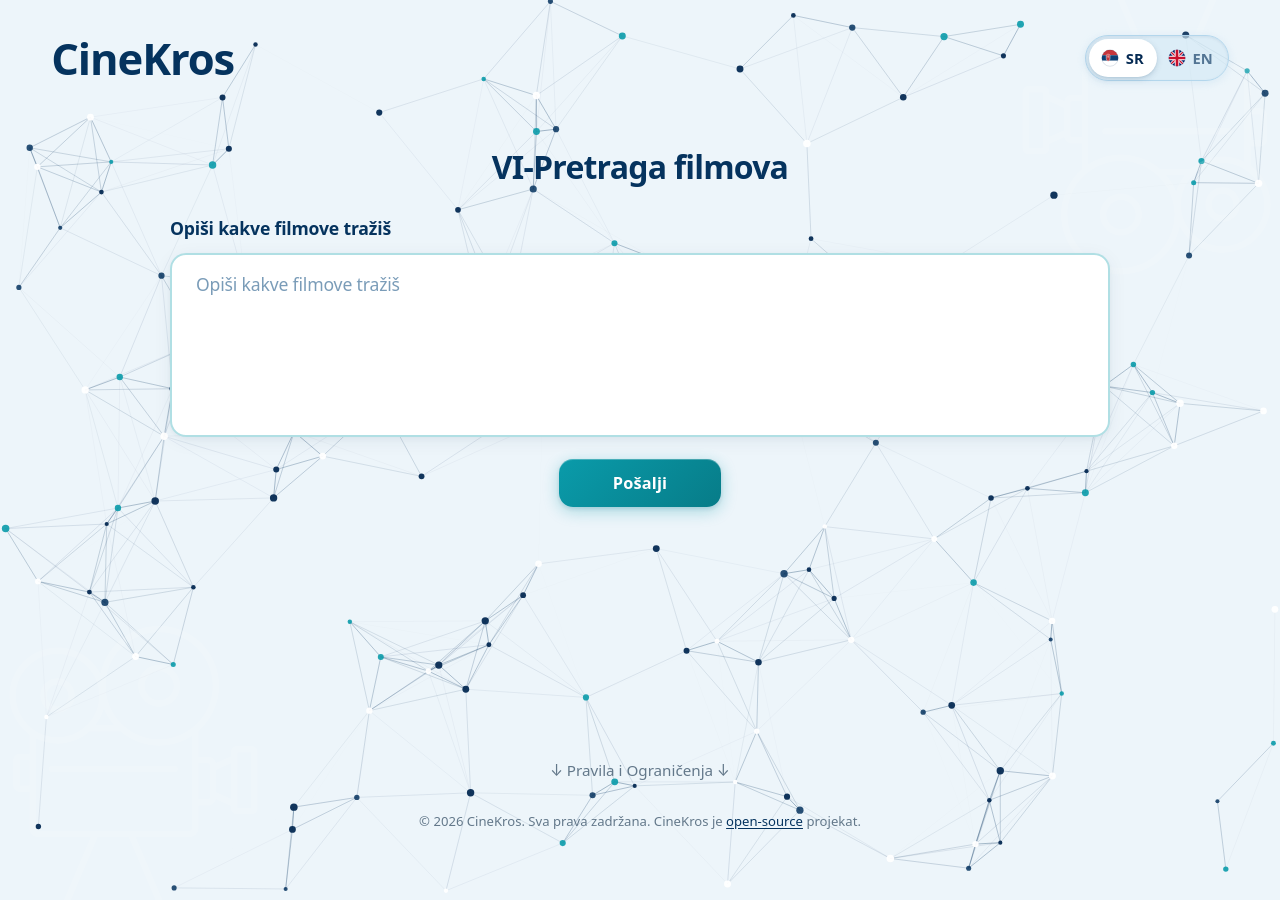
Test: v2 recommendation frontend › accepts business alert 400/INVALID_REQUEST only with its contract status and copy
The image size is (1280, 900).
Type "film" into the text box at (640, 345), box x1=170 y1=253 x2=1110 y2=437
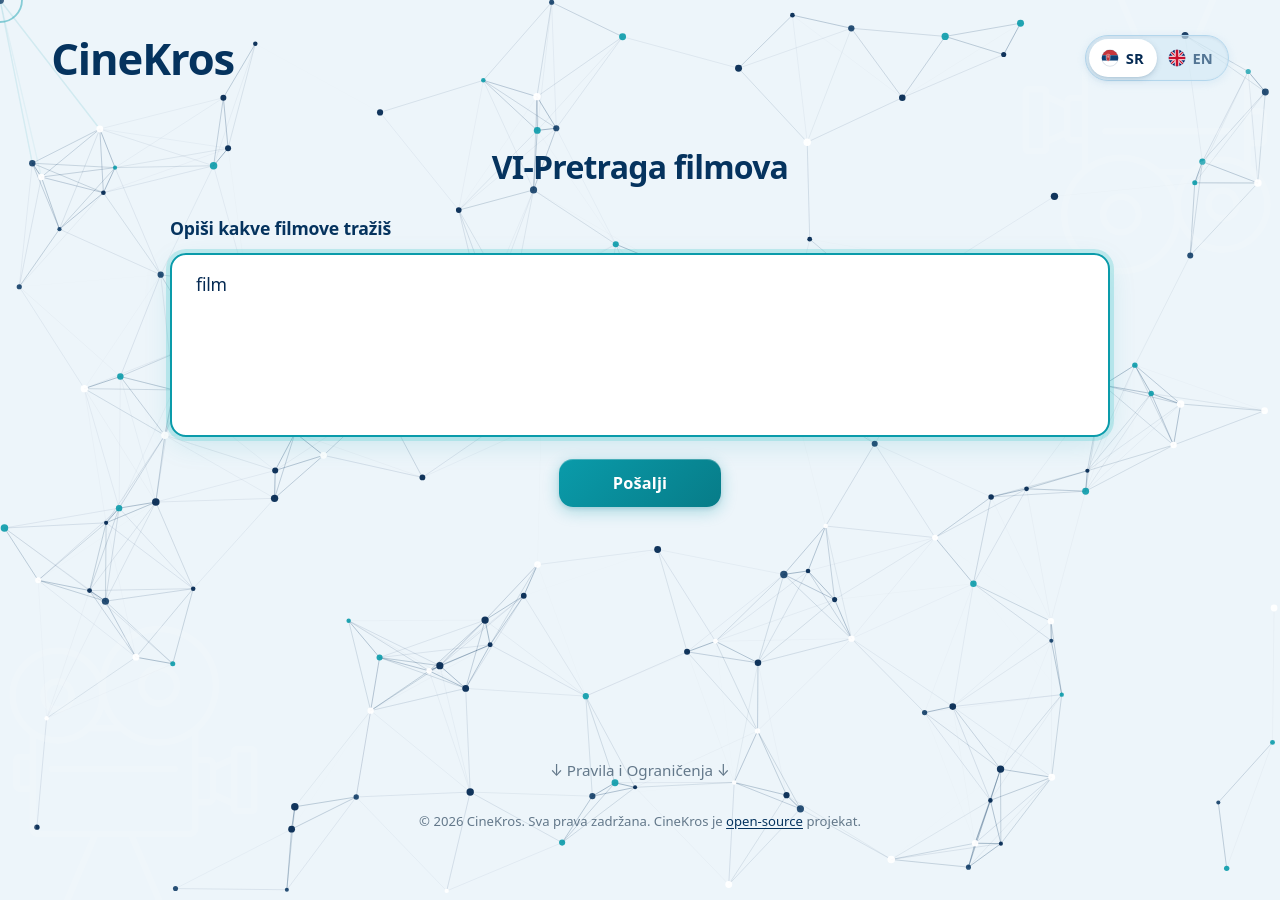
Click the button "Pošalji" at (640, 483), box x1=559 y1=459 x2=721 y2=507
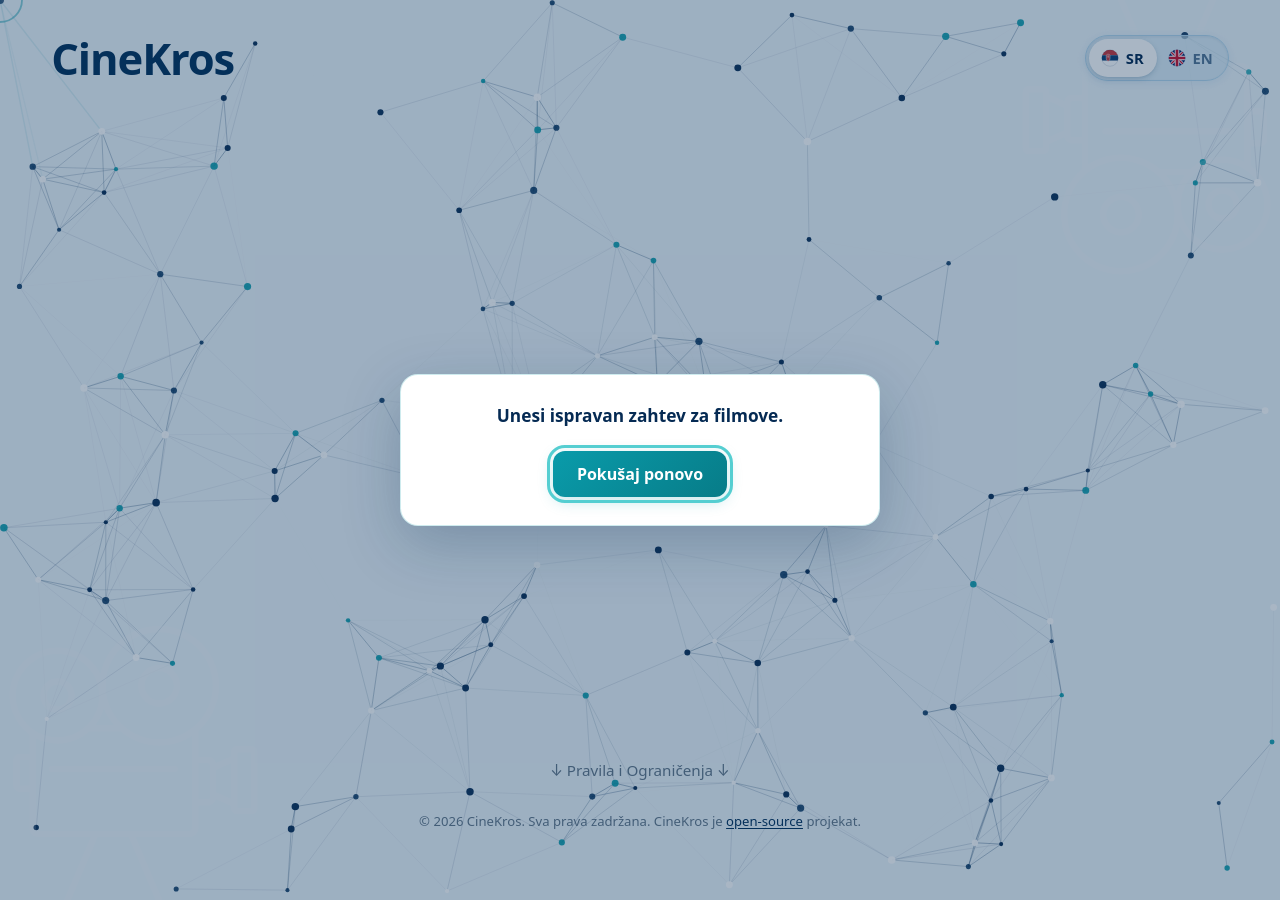
Expected: the dialog shows "Unesi ispravan zahtev za filmove.", x1=497 y1=404 x2=783 y2=427
